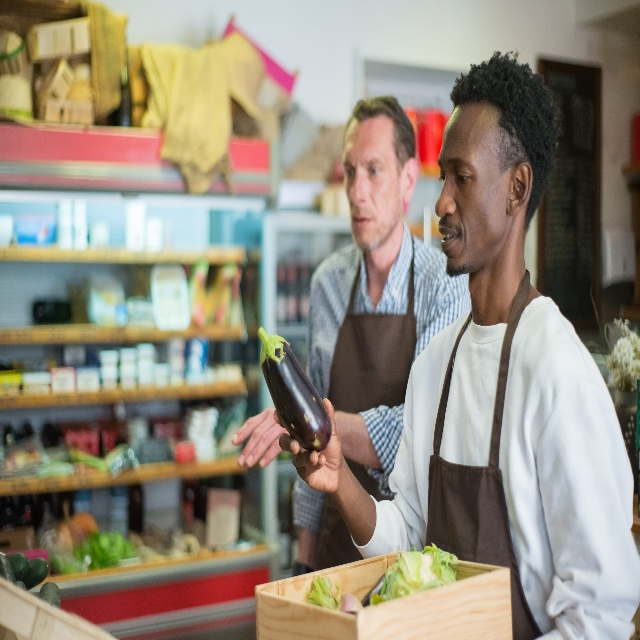Sin_guantes: (273, 398, 342, 497), (231, 405, 289, 470)
